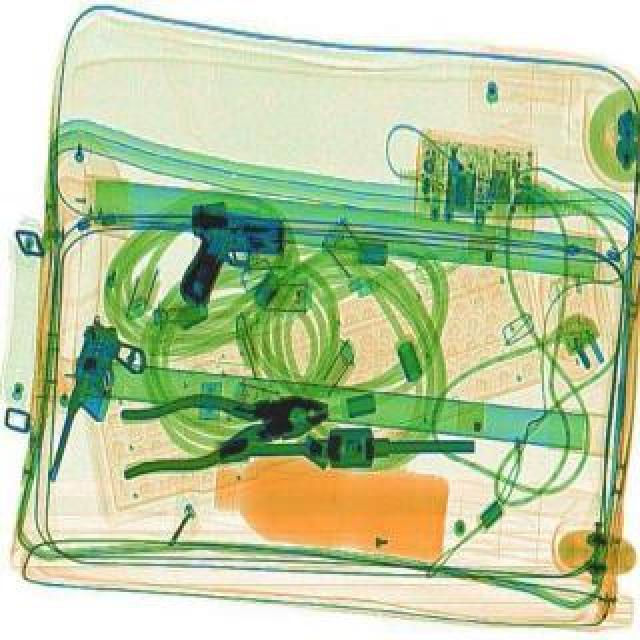gun: (44, 316, 152, 492), (176, 194, 288, 312)
wrench: (110, 376, 334, 476)
